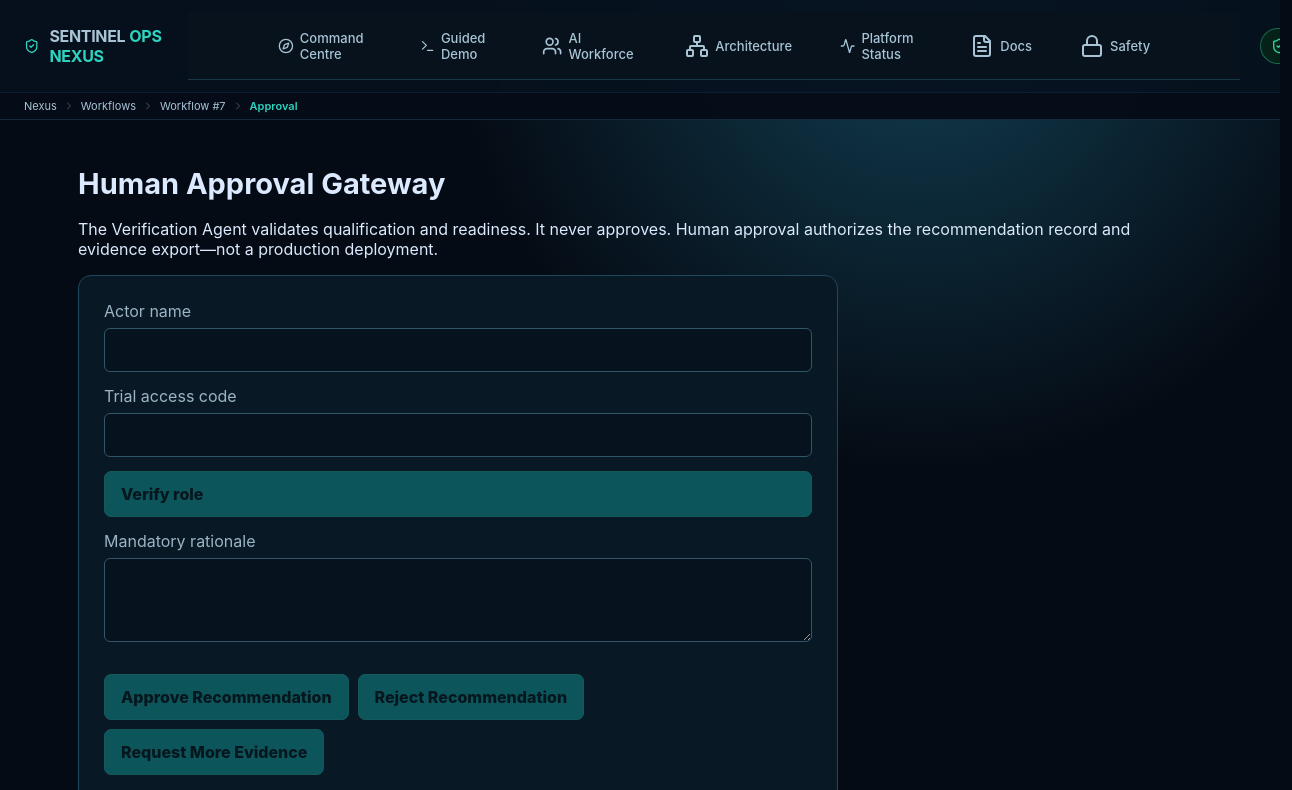
Test: approval and evidence integration boundaries › renders backend decision rejection and retains the production boundary
The width and height of the screenshot is (1292, 790).
Type "Senior QA" into the field labelled "Actor name".
click(458, 350); type("Senior QA")  # box [104,328,812,372]
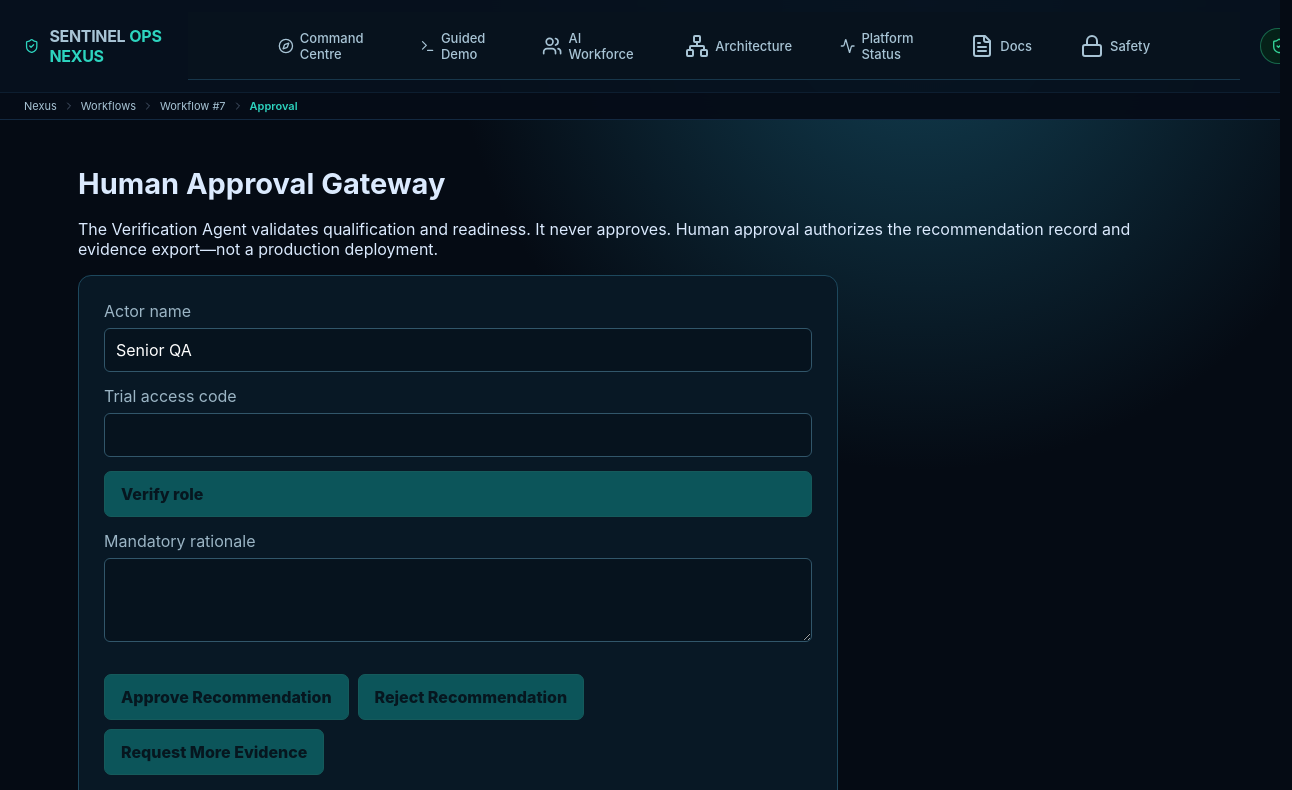
Type "1111" into the password field labelled "Trial access code".
click(458, 435); type("1111")  # box [104,413,812,457]
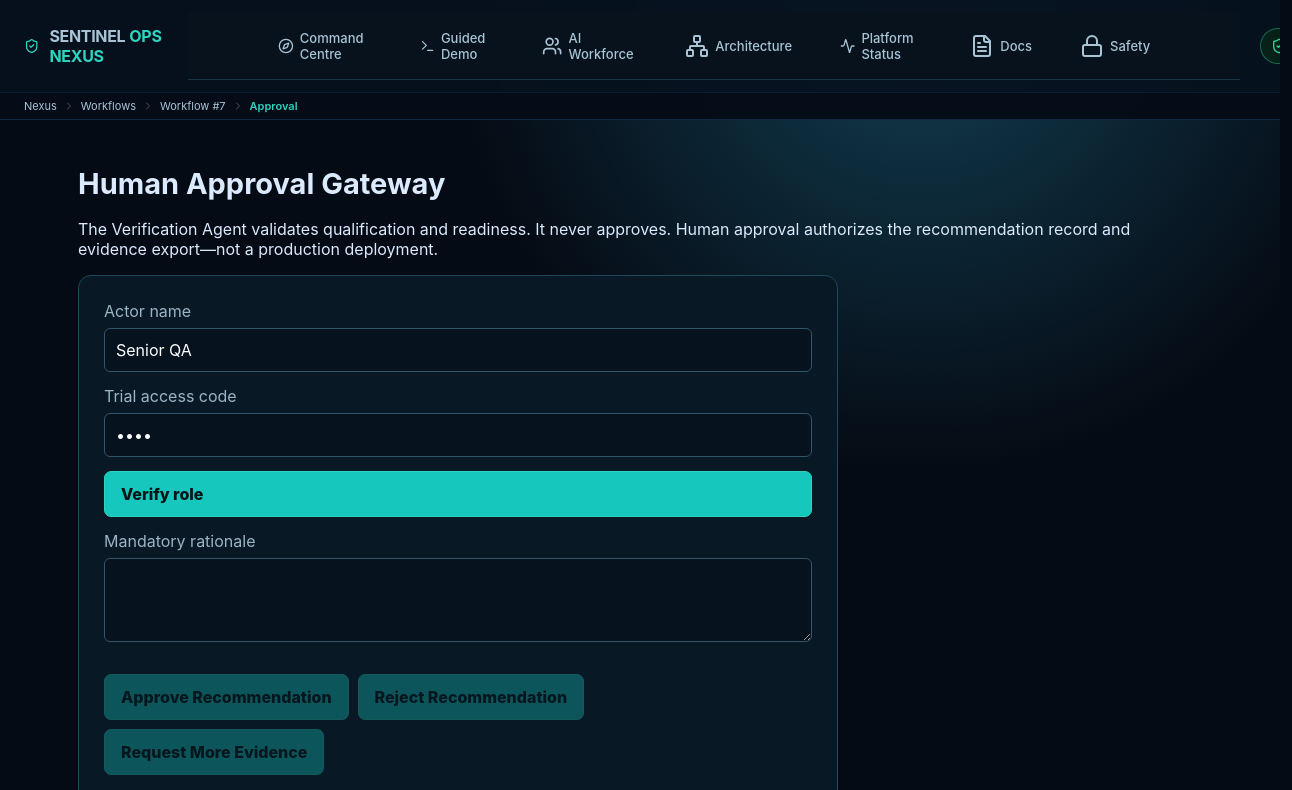
Click the button "Verify role".
click(162, 494)  # box [104,471,812,517]
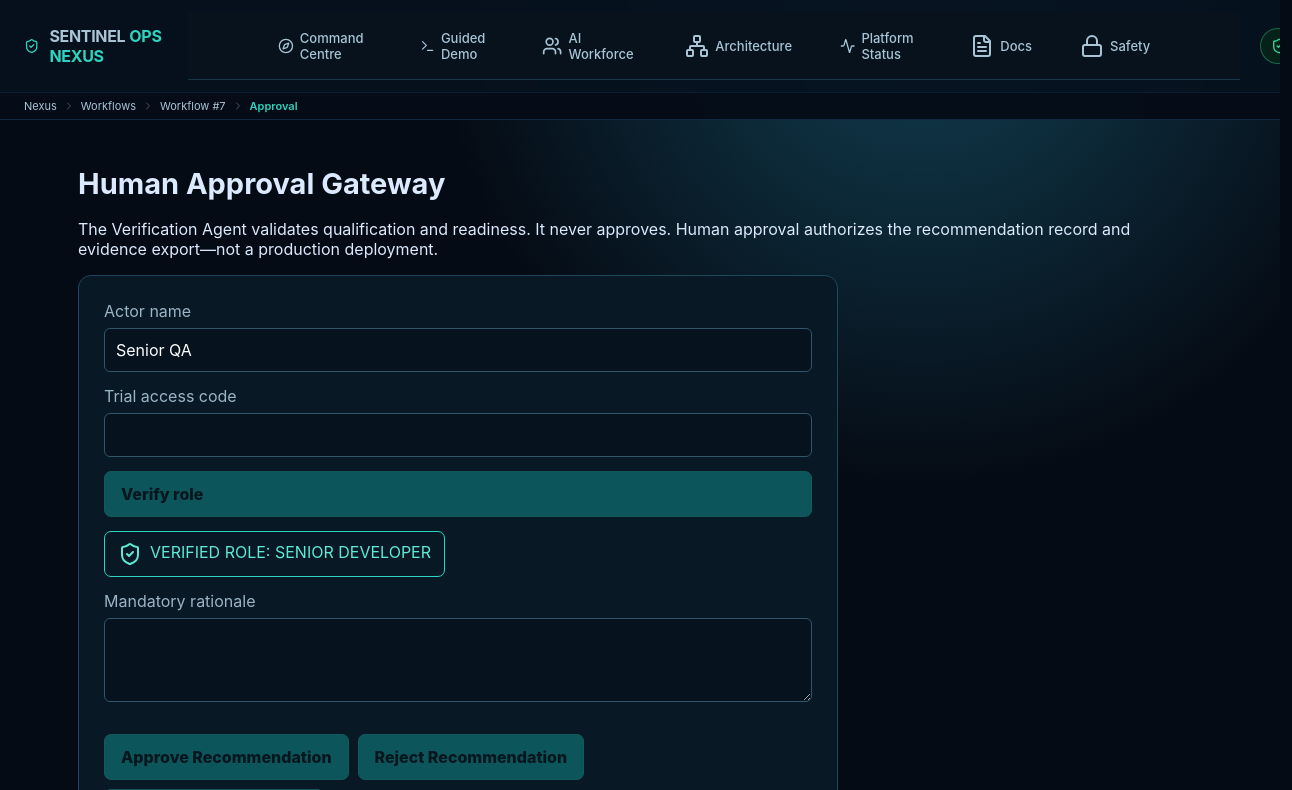
Now the text "VERIFIED ROLE: SENIOR DEVELOPER" is shown, box [104,531,445,577]
Type "Reviewed every mandatory gate." into the text box labelled "Mandatory rationale".
click(458, 660); type("Reviewed every mandatory gate.")  # box [104,618,812,702]
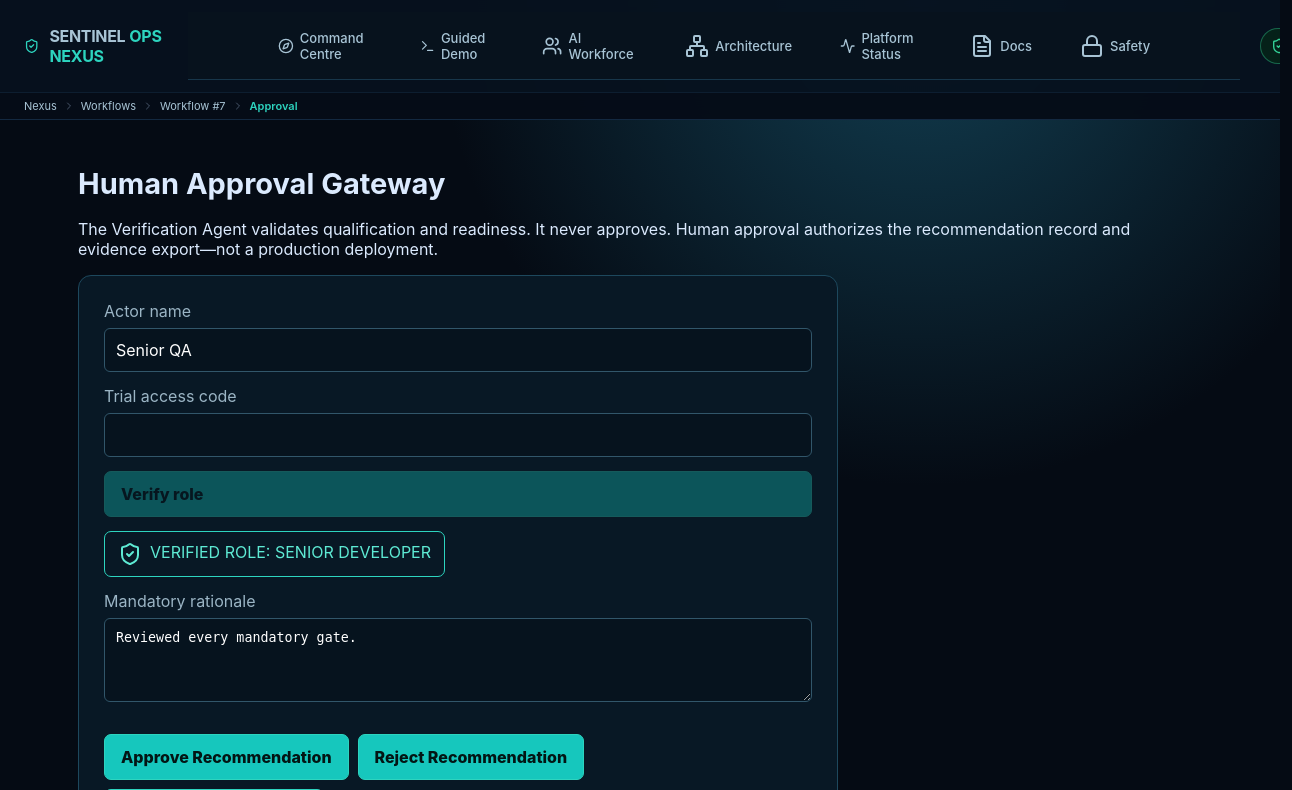
Click the button "Approve Recommendation".
click(226, 757)  # box [104,734,348,780]
(page scrolled)
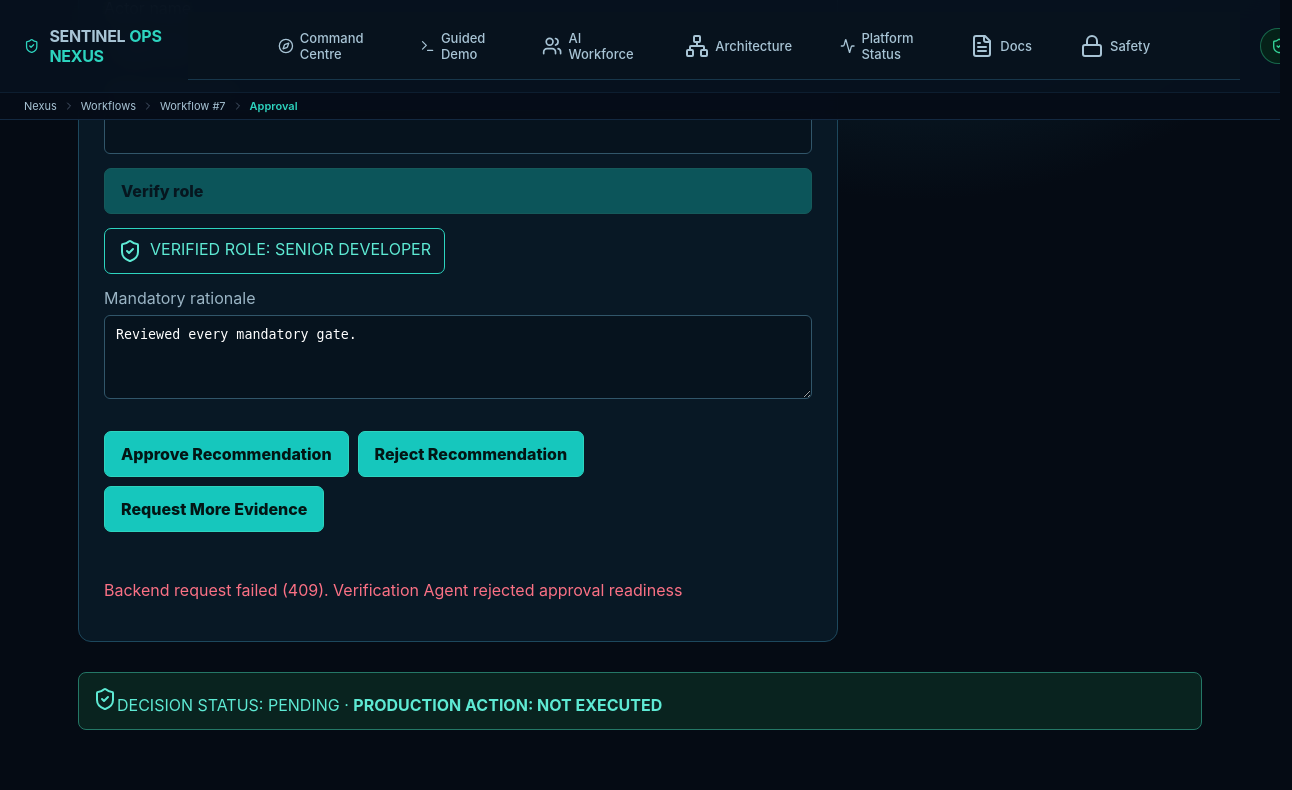
Expected: the text "PRODUCTION ACTION: NOT EXECUTED" is shown, [353,695,662,715]
Now the text "Backend request failed (409)" is shown, box [104,580,682,600]
